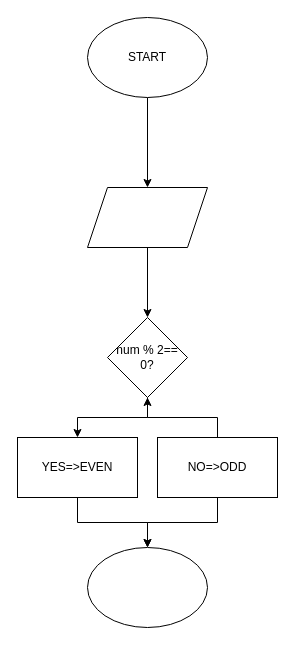
The diagram is 295 pixels wide and 645 high, and some of its shapes have lost their labels. Here are the shapes that lost their labels. From the top down, the box of each, then its label:
(86, 186, 208, 248): iNPUT NUMBER
(86, 546, 208, 628): END
